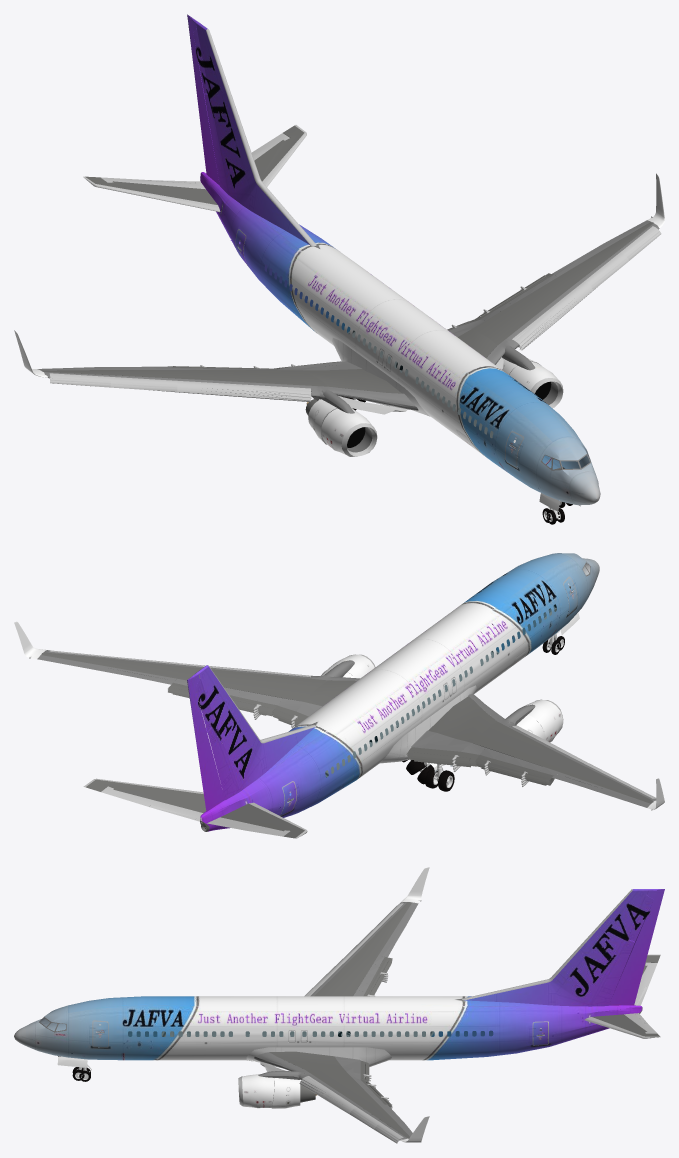
The model's file is JAFVA2.gltf.
The picture shows the model from 3 angles, top to bottom: view 1: azimuth 30°, elevation 25°; view 2: azimuth 150°, elevation 25°; view 3: azimuth 270°, elevation 25°; orthographic projection. The views are drawn at different scales.
Visible parts, largest first — view 1: Exterior, Pose_flaps_0, Pose_flaps_1, Pose_flaps_2; view 2: Exterior, Pose_flaps_1, Pose_flaps_0, Pose_gear_3, Pose_flaps_2, Pose_flaps_3, Pose_flaps_4; view 3: Exterior, Pose_flaps_0, Pose_flaps_1, Pose_flaps_2.
Boxes of the visible parts, bbox=[...] form: Exterior: bbox=[14, 14, 664, 505]; Pose_flaps_0: bbox=[49, 226, 657, 408]; Pose_flaps_1: bbox=[50, 229, 659, 414]; Pose_flaps_2: bbox=[50, 232, 661, 401]; Exterior: bbox=[14, 553, 664, 838]; Pose_flaps_1: bbox=[168, 674, 552, 781]; Pose_flaps_0: bbox=[49, 650, 656, 798]; Pose_gear_3: bbox=[424, 631, 560, 791]; Pose_flaps_2: bbox=[168, 687, 553, 782]; Pose_flaps_3: bbox=[168, 690, 553, 784]; Pose_flaps_4: bbox=[168, 691, 554, 786]; Exterior: bbox=[14, 867, 664, 1142]; Pose_flaps_0: bbox=[263, 903, 403, 1139]; Pose_flaps_1: bbox=[260, 904, 398, 1141]; Pose_flaps_2: bbox=[299, 959, 398, 1143].
Size of the model in its own units: 35.69 by 12.93 by 39.42.
54 materials, 16 textured.
